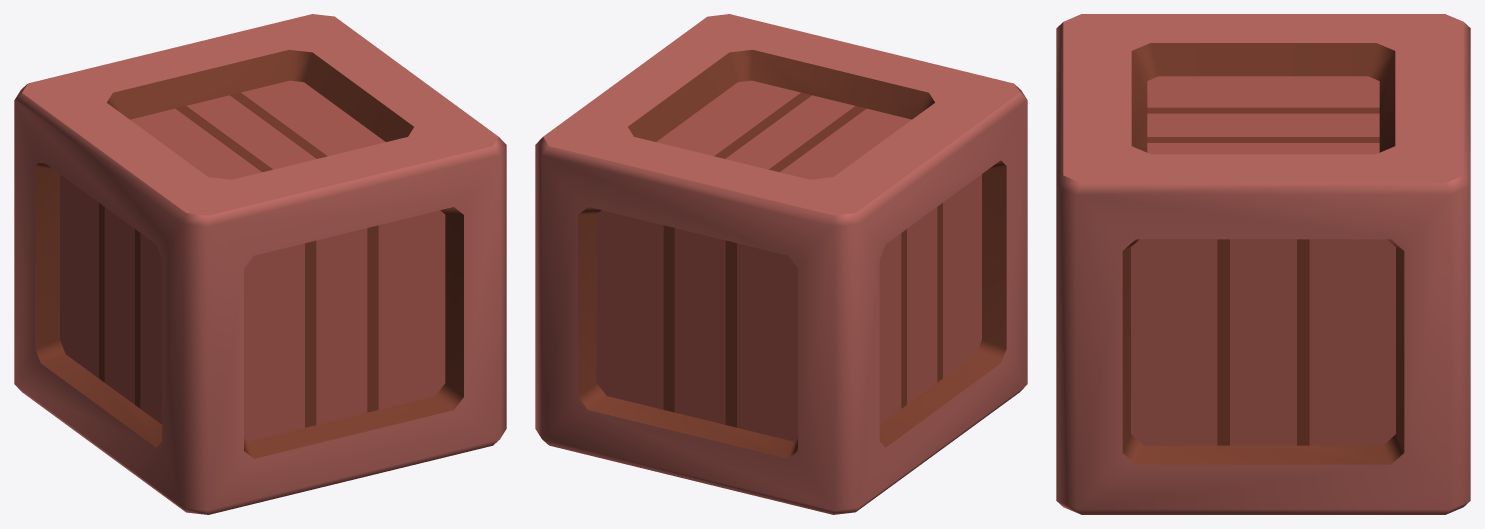
The model's file is crate1.fbx.
The picture shows the model from 3 angles, left to right: view 1: azimuth 30°, elevation 25°; view 2: azimuth 150°, elevation 25°; view 3: azimuth 270°, elevation 25°; orthographic projection. The views are drawn at different scales.
Parts seen in each view (by area): view 1: crate1; view 2: crate1; view 3: crate1.
Part boxes in pixels (x1,y1,x2,y2): crate1: [14, 14, 506, 514]; crate1: [535, 14, 1027, 514]; crate1: [1056, 14, 1470, 514].
Size of the model in its own units: 92.98 by 82.22 by 92.98.
1 material, 1 textured.
